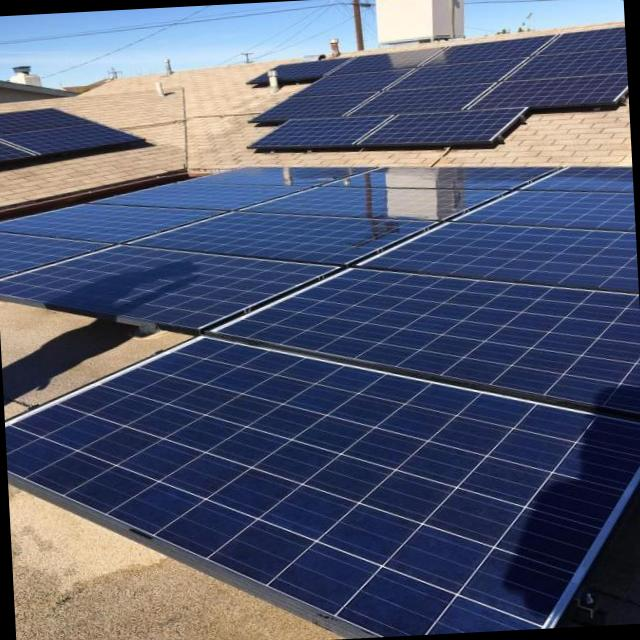no faulty: (5, 338, 640, 637), (213, 267, 640, 425), (8, 246, 333, 330), (380, 227, 634, 291), (139, 210, 429, 259), (255, 186, 499, 214), (468, 191, 636, 229), (100, 184, 304, 211), (365, 108, 526, 141), (475, 73, 625, 106), (17, 209, 204, 233), (352, 83, 492, 115), (330, 169, 553, 189), (0, 234, 91, 283), (390, 57, 521, 89), (254, 116, 387, 147), (426, 38, 553, 65), (507, 51, 625, 80), (197, 166, 370, 185), (523, 166, 633, 191), (331, 51, 438, 76), (262, 92, 373, 116), (305, 70, 410, 92), (540, 26, 624, 53)
